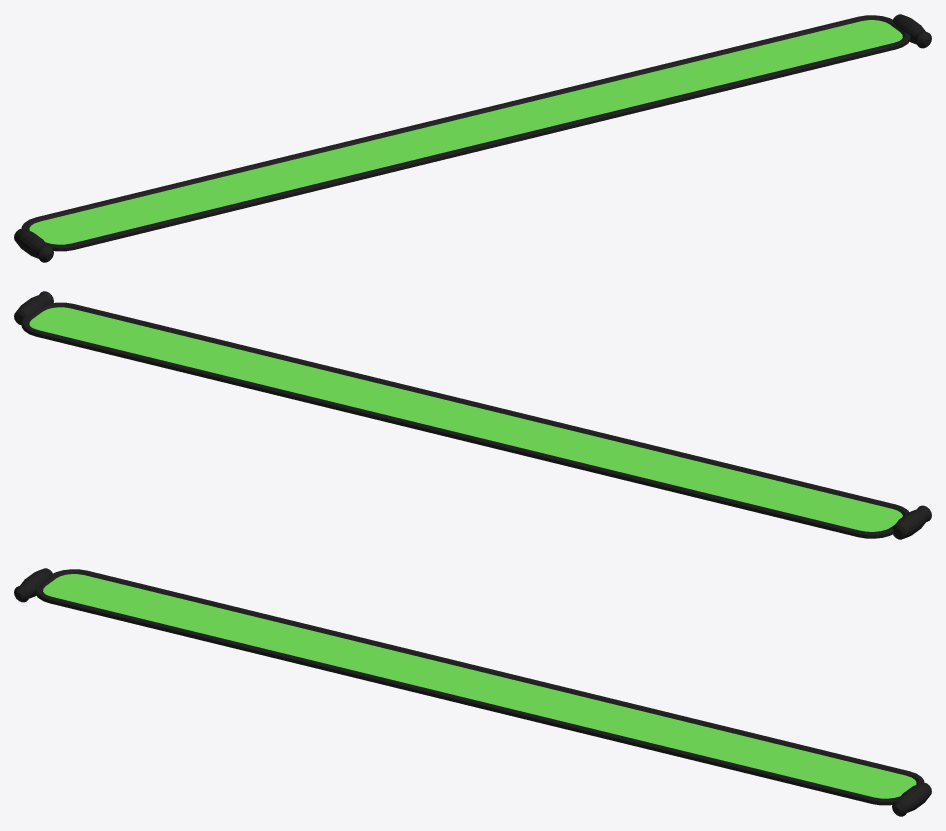
File: Checkpoint.fbx
3 renders of one model, top to bottom at view 1: azimuth 30°, elevation 25°; view 2: azimuth 150°, elevation 25°; view 3: azimuth 330°, elevation 25°, orthographic.
Parts seen in each view (by area): view 1: Screen, Border, Cylinder.001, Cylinder; view 2: Screen, Border, Cylinder.001, Cylinder; view 3: Screen, Border, Cylinder, Cylinder.001.
Part boxes in pixels (x1,y1,x2,y2): Screen: (29, 20, 902, 244); Border: (21, 15, 910, 251); Cylinder.001: (14, 228, 53, 262); Cylinder: (892, 14, 931, 48); Screen: (29, 307, 902, 531); Border: (21, 302, 908, 538); Cylinder.001: (892, 505, 931, 539); Cylinder: (14, 291, 53, 325); Screen: (43, 574, 916, 798); Border: (35, 569, 924, 805); Cylinder: (892, 782, 931, 816); Cylinder.001: (14, 568, 53, 602).
Bounding box in the file's own units: 4794 × 94.14 × 386.
